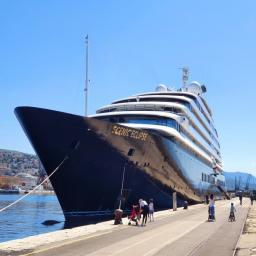cruises: (13, 65, 231, 219)
